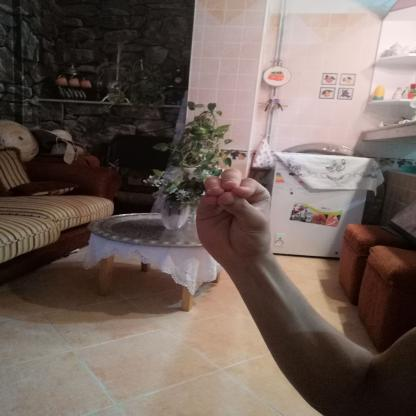HA: (178, 160, 286, 278)
